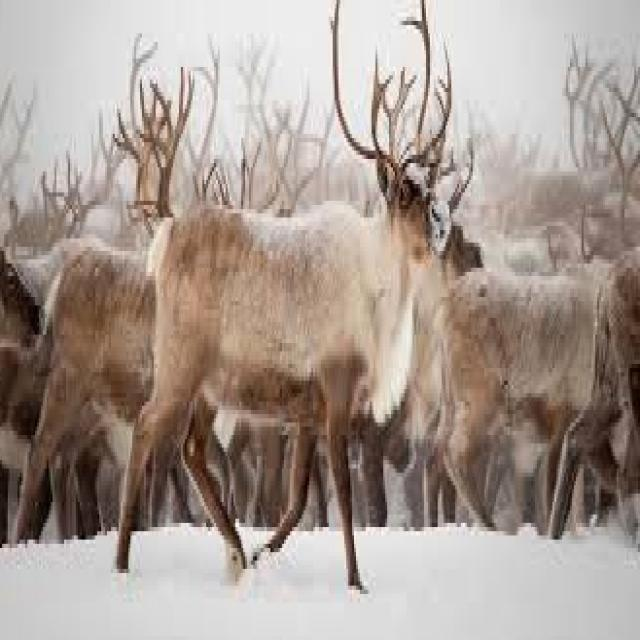reindeer: (119, 0, 451, 586)
